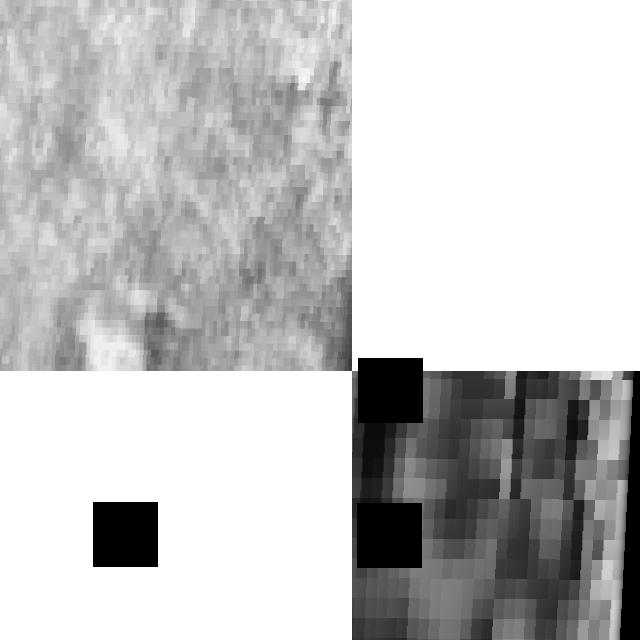crab: (0, 416, 352, 640), (352, 371, 640, 640), (352, 158, 640, 371)
fish: (0, 0, 352, 371)
